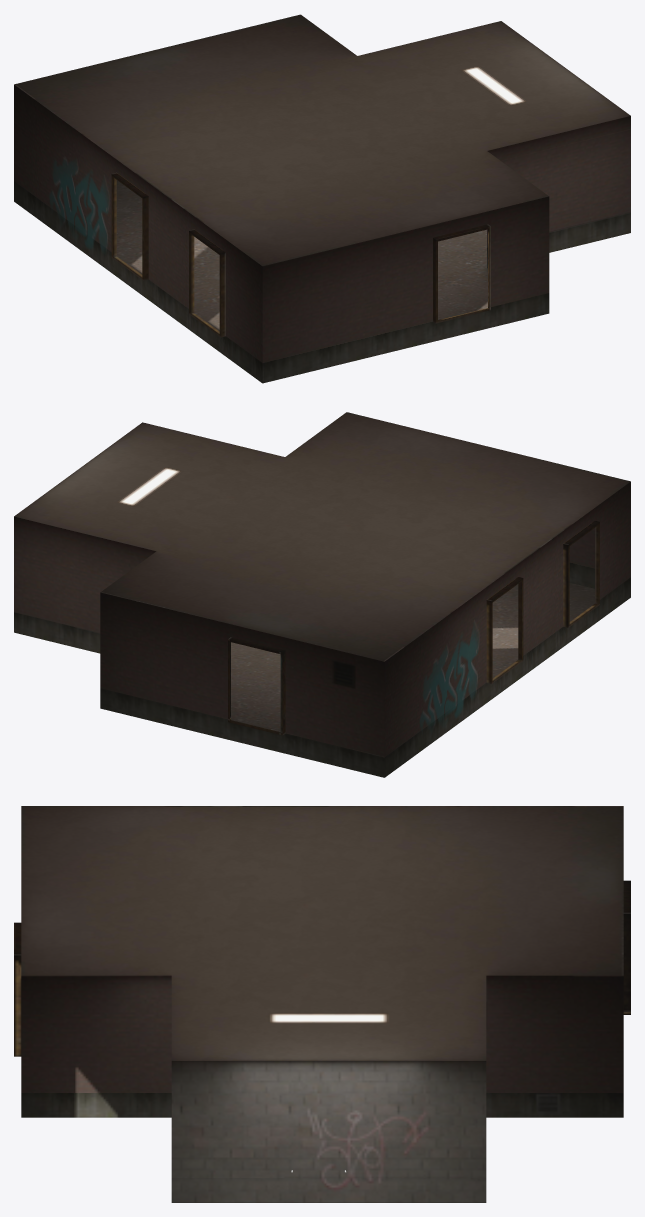
The model's file is rtt.glb.
3 renders of one model, top to bottom at view 1: azimuth 30°, elevation 25°; view 2: azimuth 150°, elevation 25°; view 3: azimuth 270°, elevation 25°, orthographic. The views are drawn at different scales.
Visible parts, largest first — view 1: Object_2; view 2: Object_2; view 3: Object_2.
Boxes of the visible parts, x1,y1,x2,y2 form: Object_2: (14, 14, 630, 383); Object_2: (14, 412, 630, 777); Object_2: (14, 806, 630, 1202).
Bounding box in the file's own units: 10.78 × 2.76 × 10.88.
Materials: 6 (3 with a texture image).
